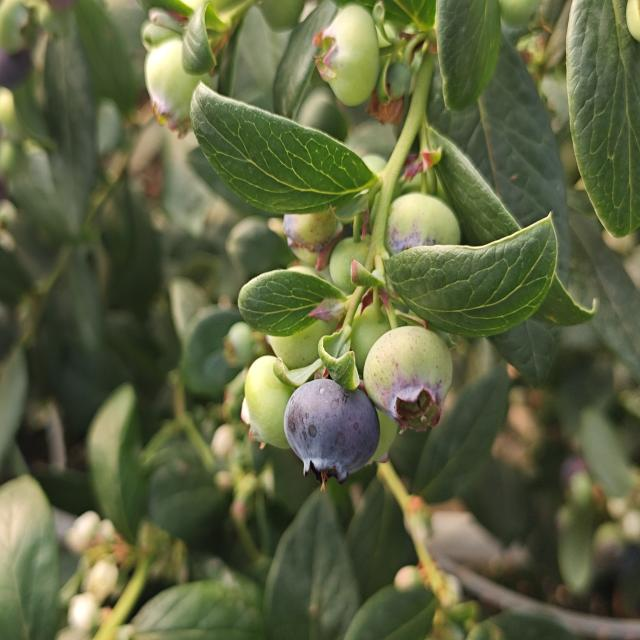ripe: (269, 362, 392, 481)
